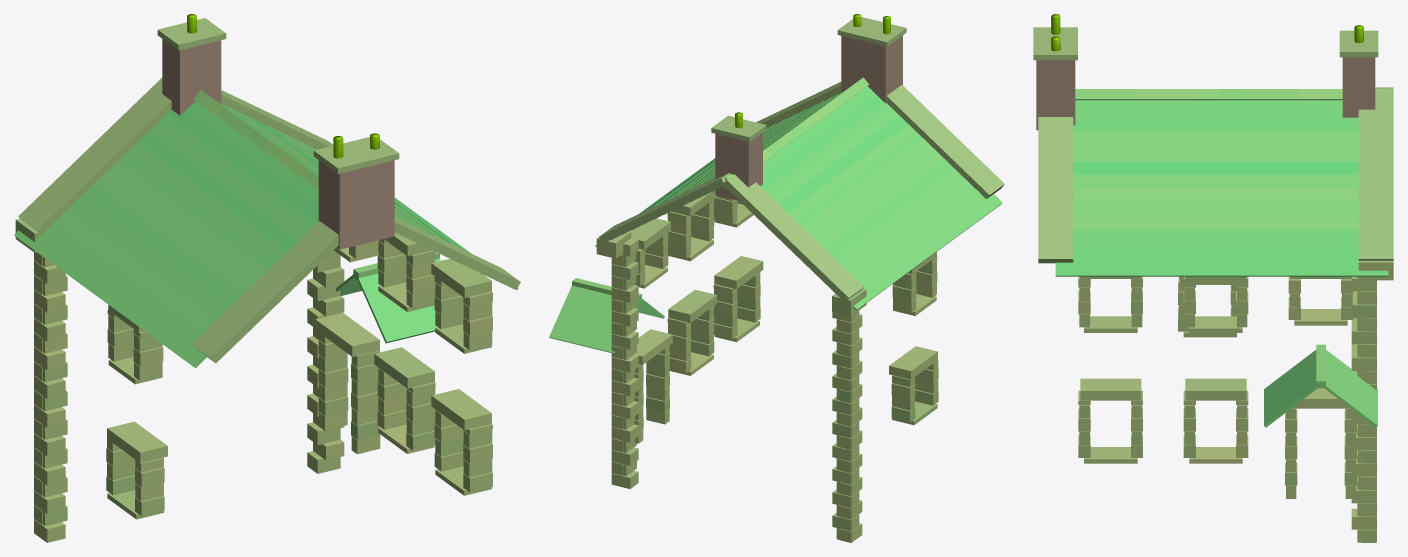
The model's file is SM_Bld_180_Stone.glb.
3 views of the same model, side by side, from view 1: azimuth 30°, elevation 25°; view 2: azimuth 150°, elevation 25°; view 3: azimuth 270°, elevation 25° (orthographic). The views are drawn at different scales.
Visible parts, largest first — view 1: SM_Bld_180_Stone; view 2: SM_Bld_180_Stone; view 3: SM_Bld_180_Stone.
Part boxes in pixels (bbox=[...]): SM_Bld_180_Stone: bbox=[14, 14, 520, 542]; SM_Bld_180_Stone: bbox=[549, 14, 1004, 542]; SM_Bld_180_Stone: bbox=[1033, 14, 1393, 542].
Size of the model in its own units: 8.45 by 10.24 by 7.4.
